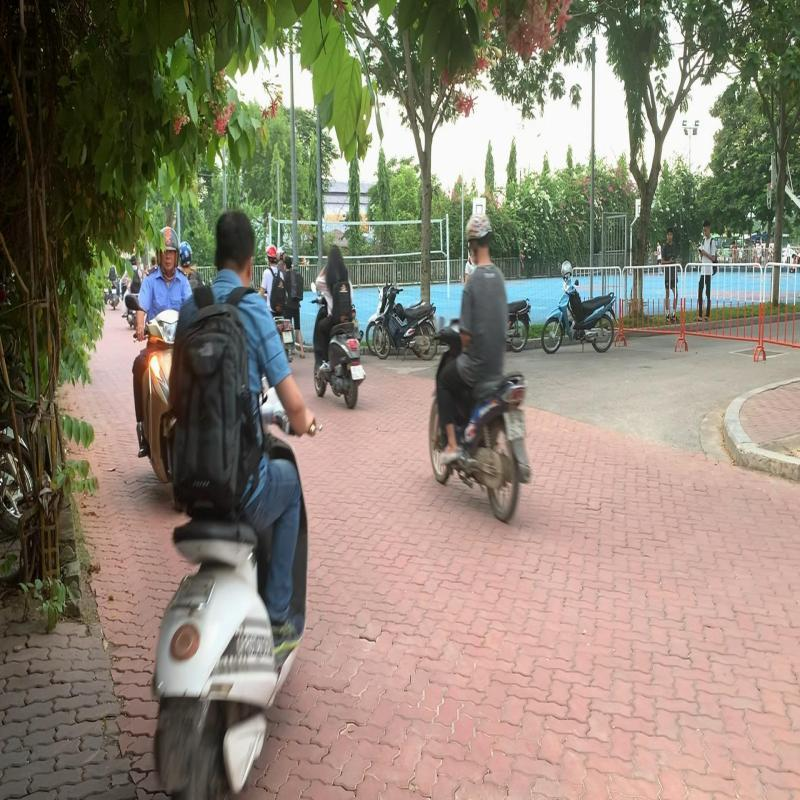nohelmet: (214, 202, 260, 285), (328, 241, 347, 274)
